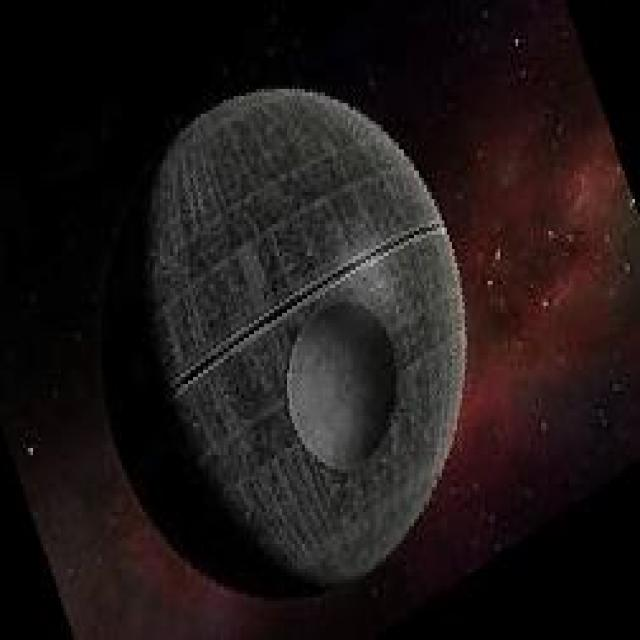Death Star: (104, 87, 466, 590)
